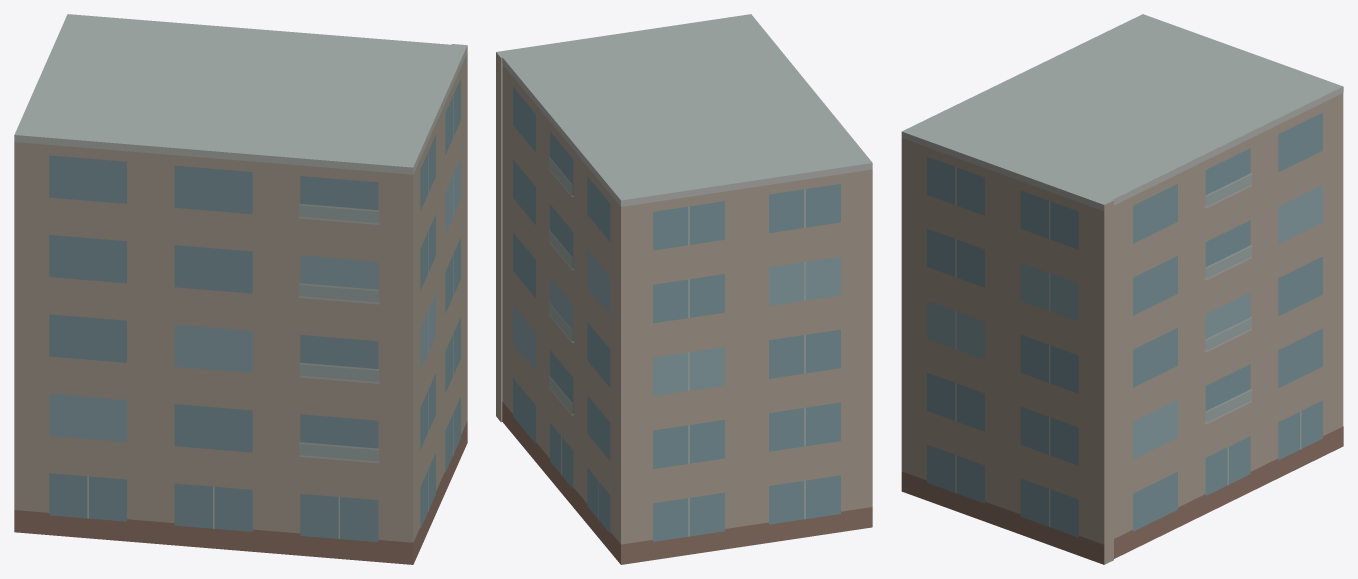
The model's file is survey-upis-32885835.glb.
3 renders of one model, left to right at view 1: azimuth 30°, elevation 25°; view 2: azimuth 150°, elevation 25°; view 3: azimuth 270°, elevation 25°, orthographic. The views are drawn at different scales.
Parts seen in each view (by area): view 1: survey-upis-32885835.tmp; view 2: survey-upis-32885835.tmp; view 3: survey-upis-32885835.tmp.
Part boxes in pixels (x1,y1,x2,y2): survey-upis-32885835.tmp: (14, 14, 467, 564); survey-upis-32885835.tmp: (496, 14, 872, 564); survey-upis-32885835.tmp: (901, 14, 1343, 564).
Size of the model in its own units: 15.6 by 13.7 by 15.25.
